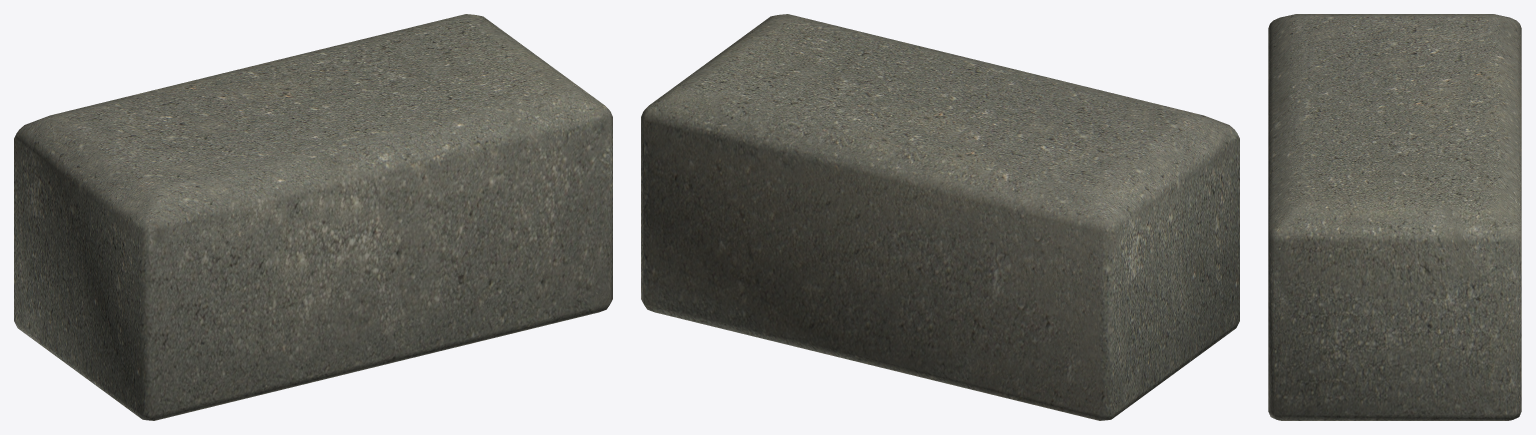
File: paving_stone.glb
The picture shows the model from 3 angles, left to right: view 1: azimuth 30°, elevation 25°; view 2: azimuth 150°, elevation 25°; view 3: azimuth 270°, elevation 25°; orthographic projection. The views are drawn at different scales.
Parts seen in each view (by area): view 1: Paving Stone; view 2: Paving Stone; view 3: Paving Stone.
Boxes of the visible parts, x1,y1,x2,y2 form: Paving Stone: [14, 14, 612, 420]; Paving Stone: [641, 14, 1239, 420]; Paving Stone: [1268, 14, 1521, 420].
Size of what is drawn, in the model's own units: 0.4636 by 0.205 by 0.2283.
Materials: 1 (1 with a texture image).
